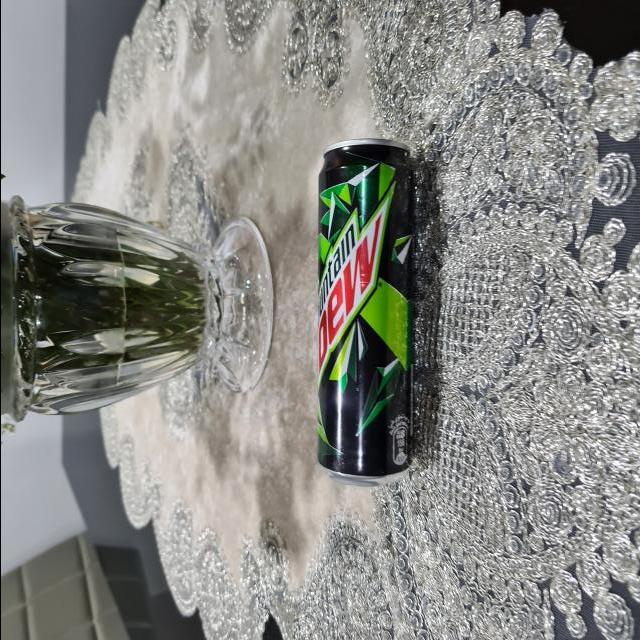can: (312, 138, 415, 486)
